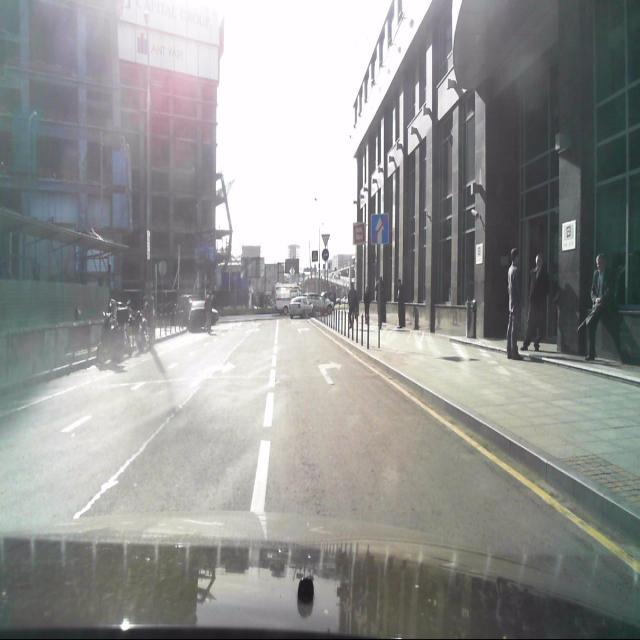road sign: (370, 215, 388, 244), (321, 233, 331, 248)
